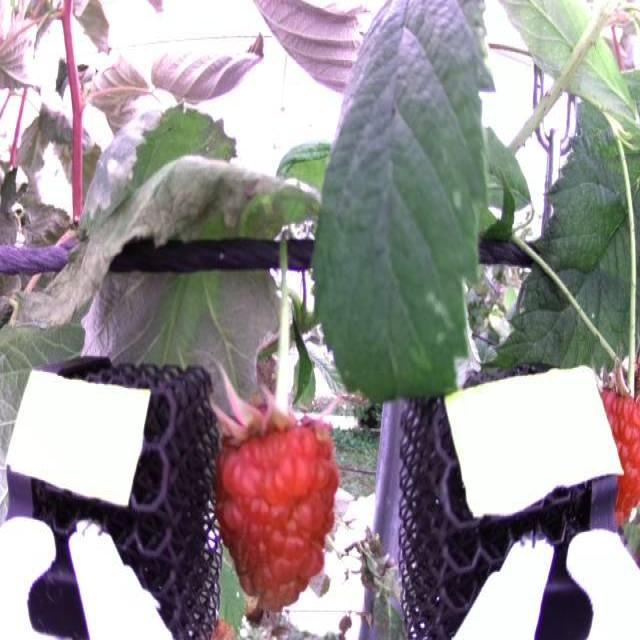Riped berries: (208, 410, 352, 612), (595, 352, 640, 520)
